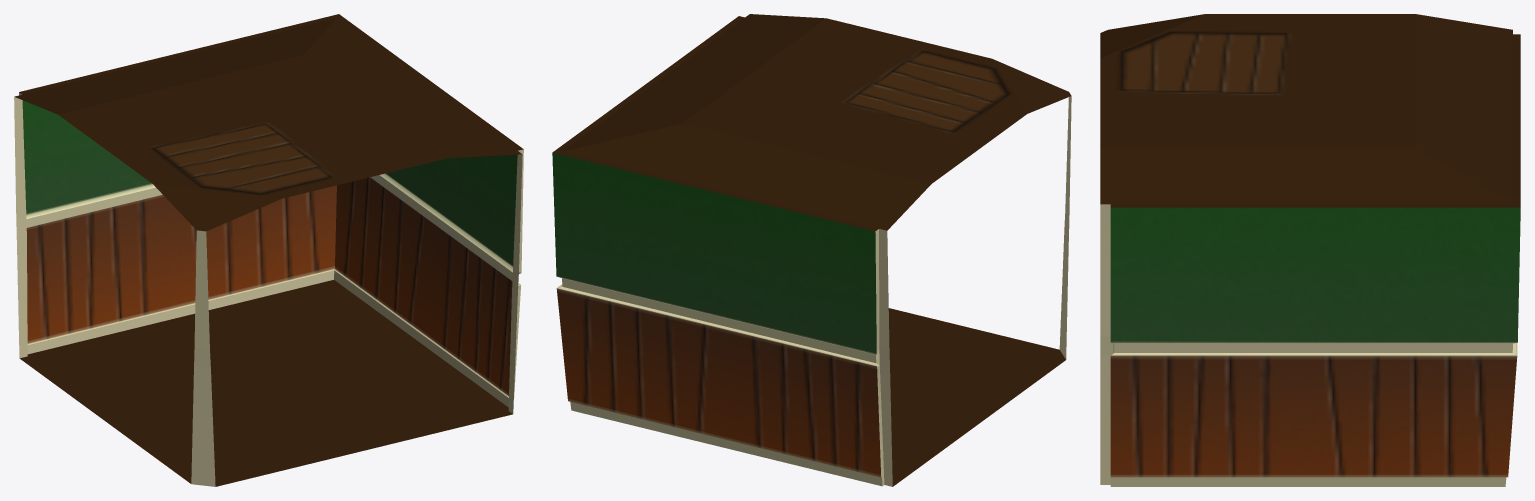
File: Corridor_Corner.fbx
The picture shows the model from 3 angles, left to right: view 1: azimuth 30°, elevation 25°; view 2: azimuth 150°, elevation 25°; view 3: azimuth 270°, elevation 25°; orthographic projection. The views are drawn at different scales.
Parts seen in each view (by area): view 1: Corridor_Corner; view 2: Corridor_Corner; view 3: Corridor_Corner.
Boxes of the visible parts, x1,y1,x2,y2 form: Corridor_Corner: (14, 14, 523, 486); Corridor_Corner: (552, 14, 1071, 486); Corridor_Corner: (1100, 14, 1520, 486).
Size of the model in its own units: 4 by 3.17 by 4.
